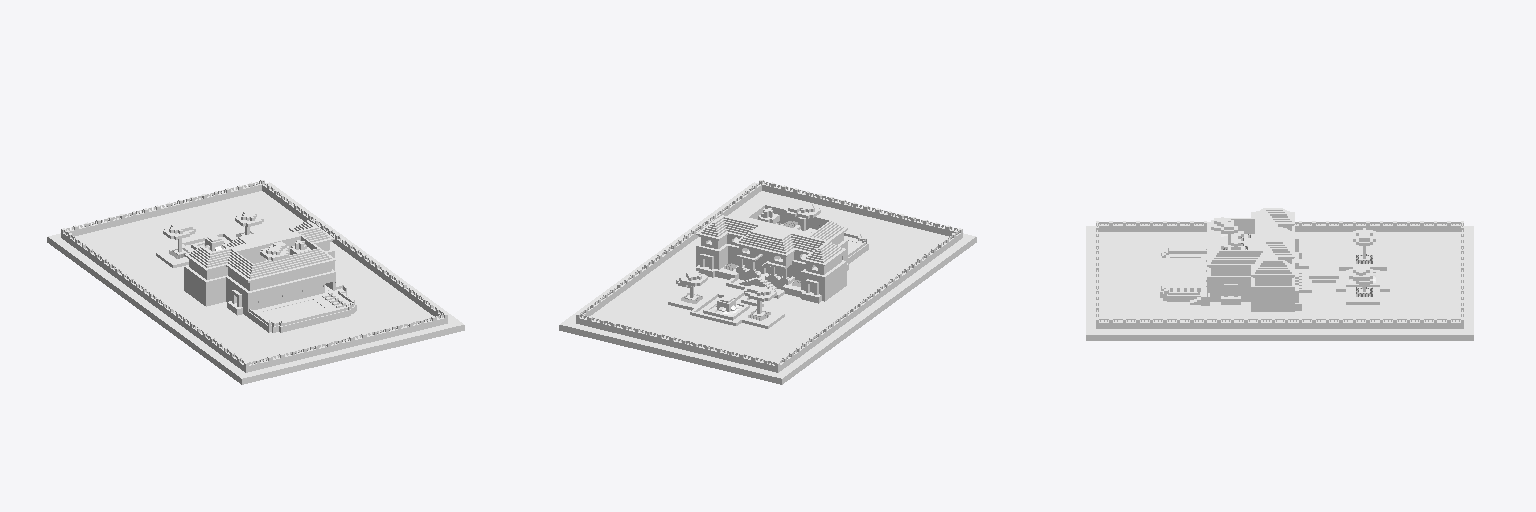
The model's file is mcroom.obj.
The picture shows the model from 3 angles: view 1: azimuth 30°, elevation 25°; view 2: azimuth 150°, elevation 25°; view 3: azimuth 270°, elevation 25°; orthographic projection.
Visible parts, largest first — view 1: world__328_2_-431_to_403_255_-317; view 2: world__328_2_-431_to_403_255_-317; view 3: world__328_2_-431_to_403_255_-317.
Part boxes in pixels (x1,y1,x2,y2): world__328_2_-431_to_403_255_-317: (47, 180, 464, 384); world__328_2_-431_to_403_255_-317: (559, 180, 976, 384); world__328_2_-431_to_403_255_-317: (1086, 208, 1473, 340).
Size of the model in its own units: 76 by 20 by 115.